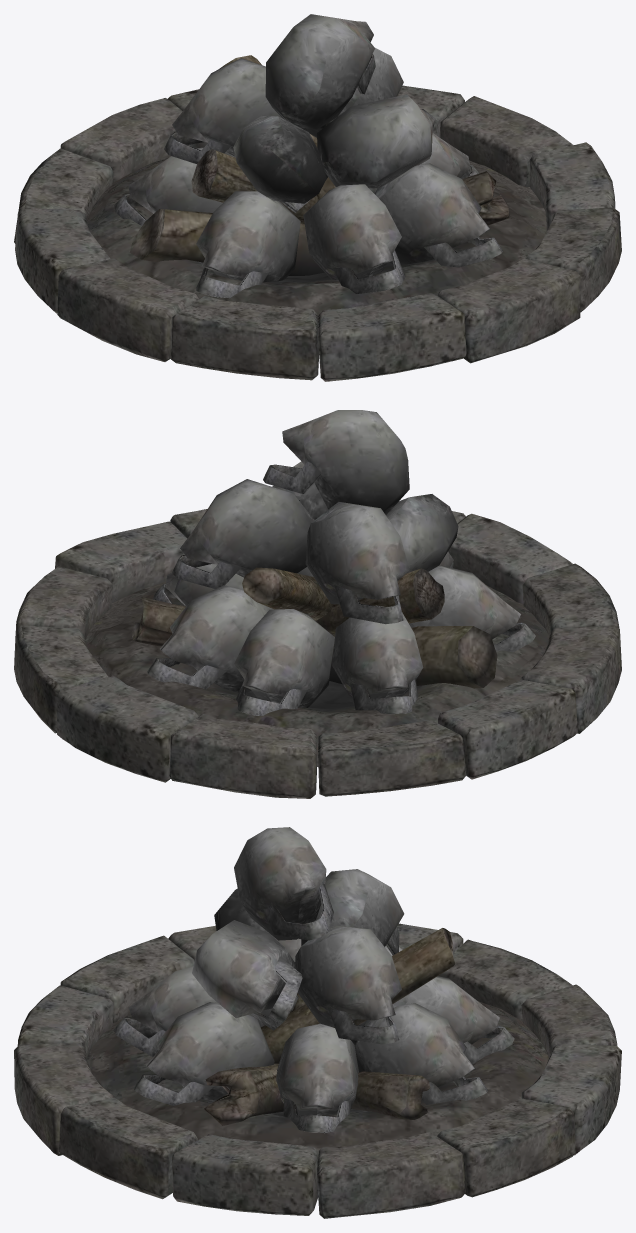
Rendered from skull_fire_pit.glb.
The picture shows the model from 3 angles, top to bottom: view 1: azimuth 30°, elevation 25°; view 2: azimuth 150°, elevation 25°; view 3: azimuth 270°, elevation 25°; orthographic projection.
Parts seen in each view (by area): view 1: skull_fire_pit_LOD0; view 2: skull_fire_pit_LOD0; view 3: skull_fire_pit_LOD0.
Boxes of the visible parts, box(x1,y1,x2,y2) form: skull_fire_pit_LOD0: box(14, 14, 621, 381); skull_fire_pit_LOD0: box(14, 410, 621, 798); skull_fire_pit_LOD0: box(14, 827, 621, 1218).
Size of the model in its own units: 0.8312 by 0.414 by 0.8256.
1 material, 1 textured.
